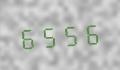five: (60, 19, 80, 48), (39, 21, 59, 49)
six: (18, 22, 38, 51), (81, 18, 101, 47)
